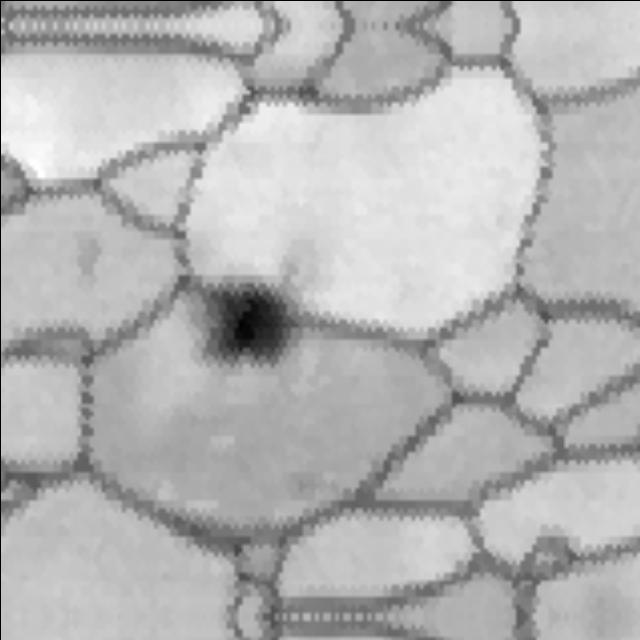good_void: (186, 277, 315, 384)
